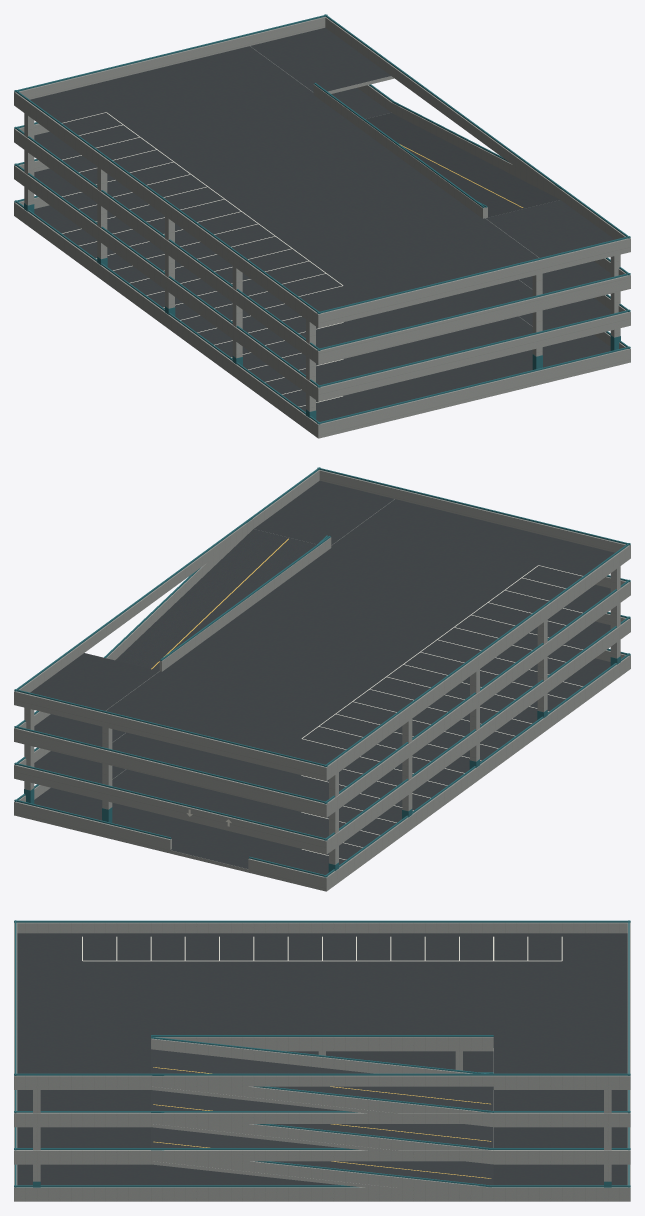
Rendered from small_04.glb.
The picture shows the model from 3 angles, top to bottom: view 1: azimuth 30°, elevation 25°; view 2: azimuth 150°, elevation 25°; view 3: azimuth 270°, elevation 25°; orthographic projection.
Visible parts, largest first — view 1: small_04_Asphalt, small_04_Concrete, small_04_Teal, small_04_Paint; view 2: small_04_Asphalt, small_04_Concrete, small_04_Teal, small_04_Paint; view 3: small_04_Asphalt, small_04_Concrete, small_04_Teal, small_04_Paint, small_04_Yellow.
Part boxes in pixels (bbox=[...]): small_04_Asphalt: bbox=[30, 27, 614, 421]; small_04_Concrete: bbox=[14, 16, 630, 438]; small_04_Teal: bbox=[14, 14, 630, 424]; small_04_Paint: bbox=[62, 112, 343, 406]; small_04_Asphalt: bbox=[30, 480, 614, 874]; small_04_Concrete: bbox=[14, 469, 630, 891]; small_04_Teal: bbox=[14, 467, 630, 877]; small_04_Paint: bbox=[301, 565, 582, 859]; small_04_Asphalt: bbox=[17, 933, 627, 1185]; small_04_Concrete: bbox=[14, 922, 630, 1201]; small_04_Teal: bbox=[14, 920, 630, 1187]; small_04_Paint: bbox=[82, 936, 562, 961]; small_04_Yellow: bbox=[153, 1067, 491, 1178].
Size of the model in its own units: 32 by 12.28 by 54.02.
Materials: 6 (2 with a texture image).
